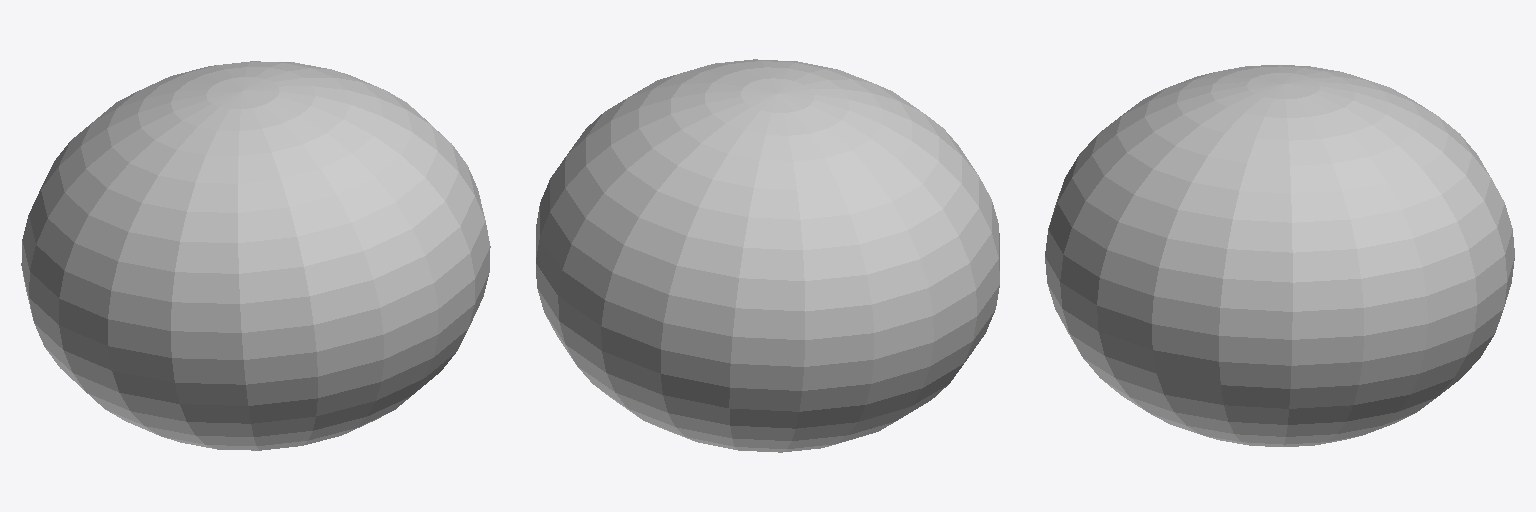
Rendered from bead_small.obj.
3 renders of one model, left to right at view 1: azimuth 30°, elevation 25°; view 2: azimuth 150°, elevation 25°; view 3: azimuth 270°, elevation 25°, orthographic.
Parts seen in each view (by area): view 1: polySurface540 polySurface462; view 2: polySurface540 polySurface462; view 3: polySurface540 polySurface462.
Part boxes in pixels (x1,y1,x2,y2): polySurface540 polySurface462: (21, 61, 490, 450); polySurface540 polySurface462: (536, 59, 999, 452); polySurface540 polySurface462: (1045, 65, 1514, 446).
Bounding box in the file's own units: 1.68 × 1.32 × 1.68.